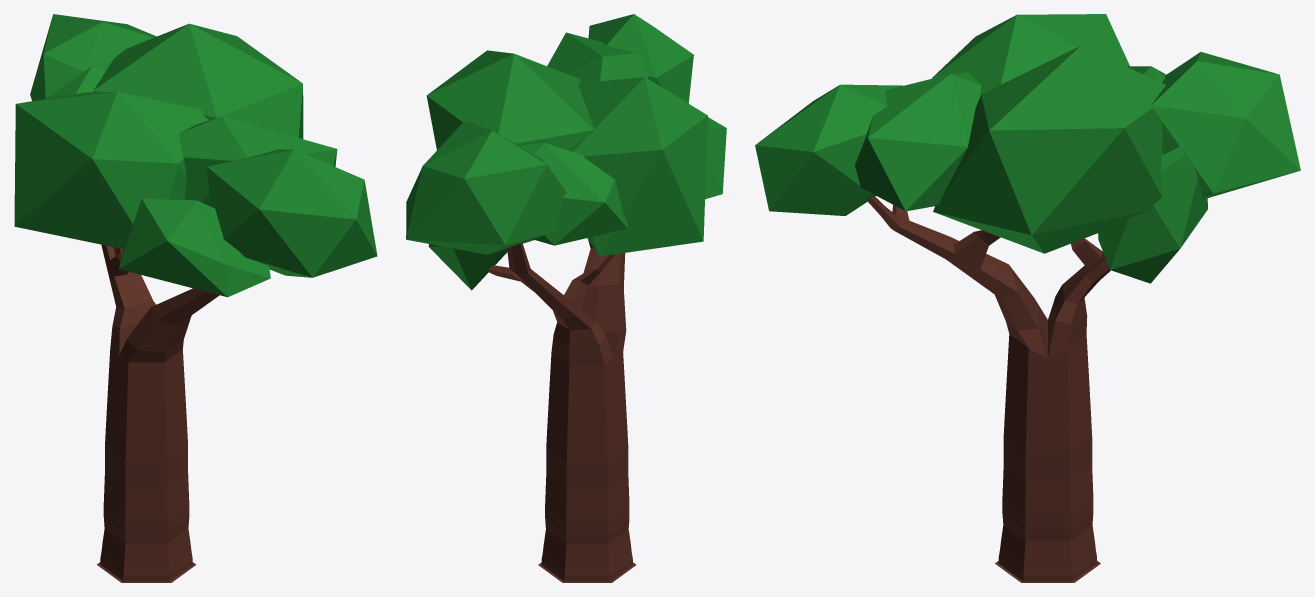
The model's file is tree.fbx.
3 renders of one model, left to right at view 1: azimuth 30°, elevation 25°; view 2: azimuth 150°, elevation 25°; view 3: azimuth 270°, elevation 25°, orthographic. The views are drawn at different scales.
Visible parts, largest first — view 1: Icosphere.012; view 2: Icosphere.012; view 3: Icosphere.012.
Boxes of the visible parts, <box> form: Icosphere.012: <box>14,14,377,582</box>; Icosphere.012: <box>406,14,726,582</box>; Icosphere.012: <box>755,14,1300,582</box>.
Bounding box in the file's own units: 180 × 323 × 292.
